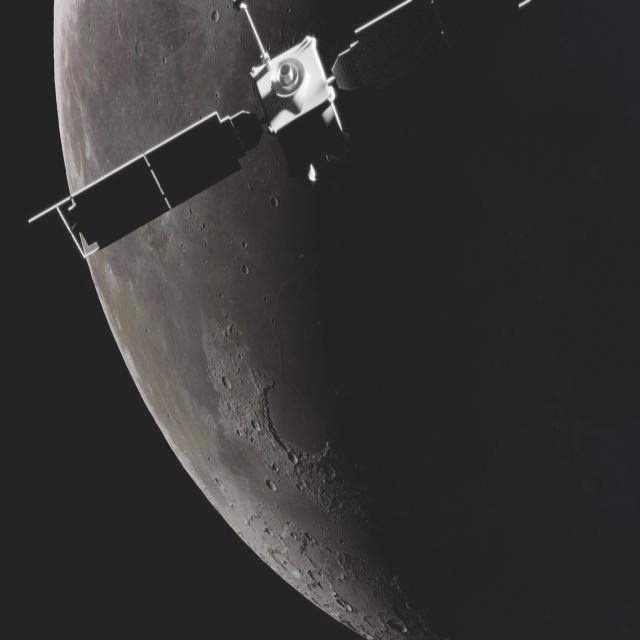satellite: (26, 0, 525, 264)
